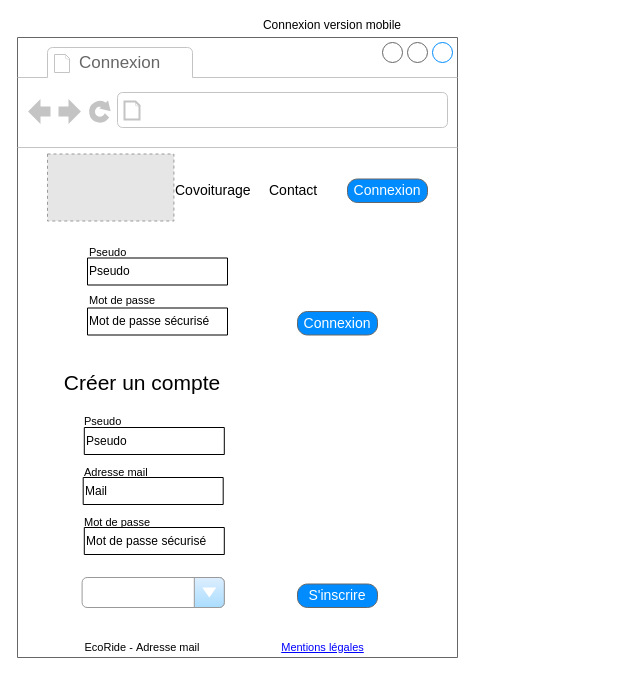
Image size: 635x679. Some labels were removed from this diagram. Grey dashed boxes stand in for pictures. Each missing label, with the box of its shape:
https://www.EcoRide.com: (146, 96, 398, 124)
Profil: (81, 576, 224, 608)
